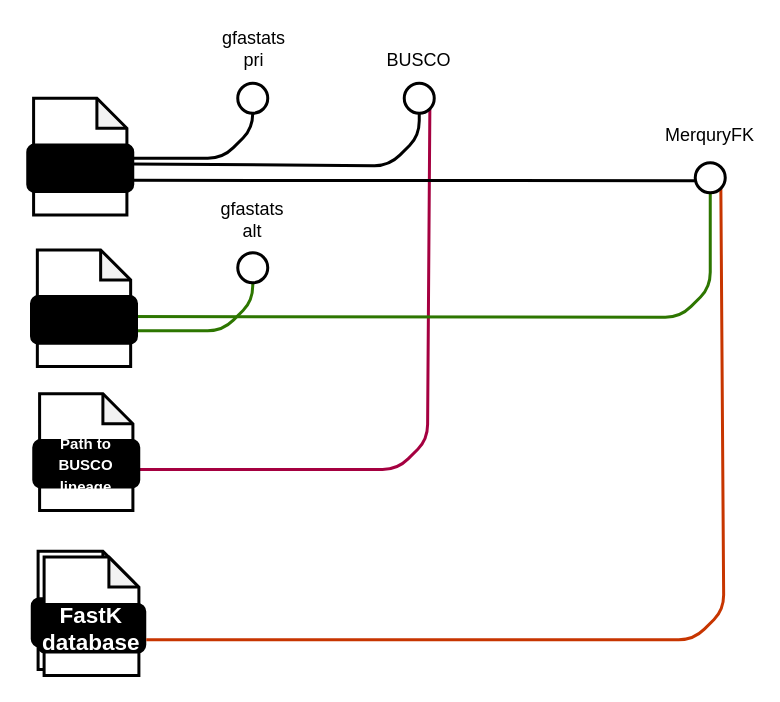
Some shapes in this 780 by 702 pixel diagram are drawn without their labels. Here are the shapes that lost their labels. From the top down, the box of each, then its label:
(26, 143, 134, 192): Primary assembly
(29, 294, 137, 344): Haplotigs assembly
